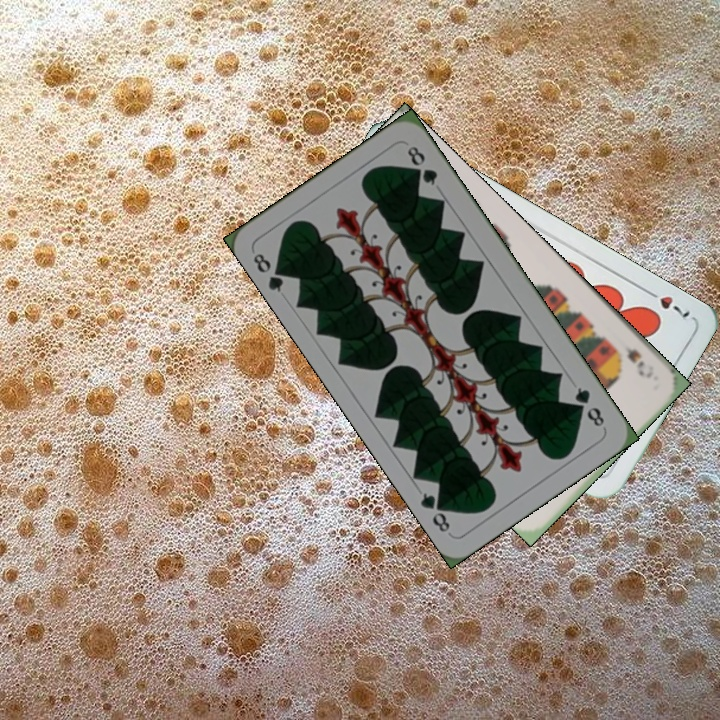G8: (249, 249, 291, 295), (570, 382, 607, 430)
H7: (640, 284, 693, 321)
S9: (620, 341, 657, 381)
